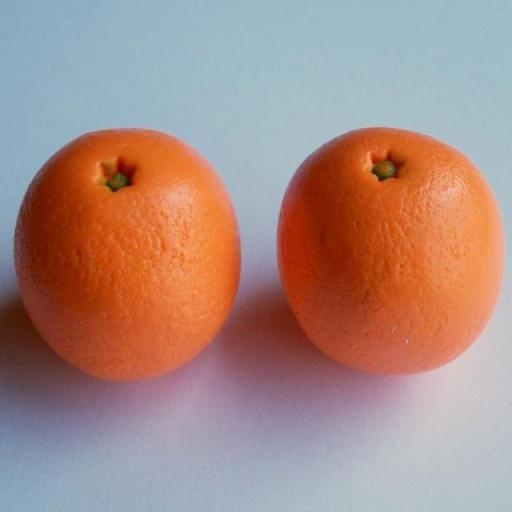fruit: (136, 118, 421, 412), (8, 147, 49, 483)
